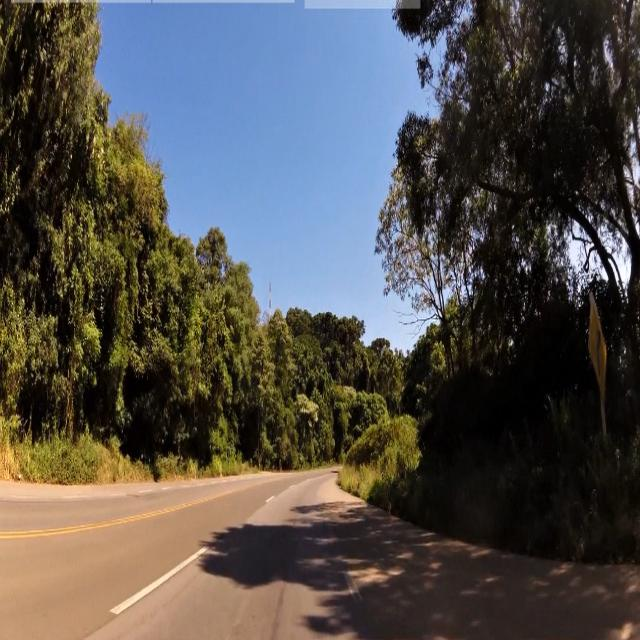A-2b: (587, 301, 614, 402)
